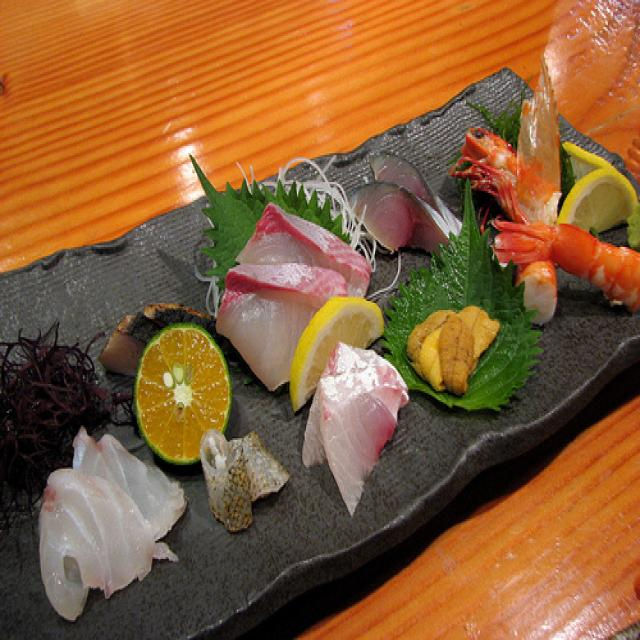刺身生食: (0, 92, 640, 640)
